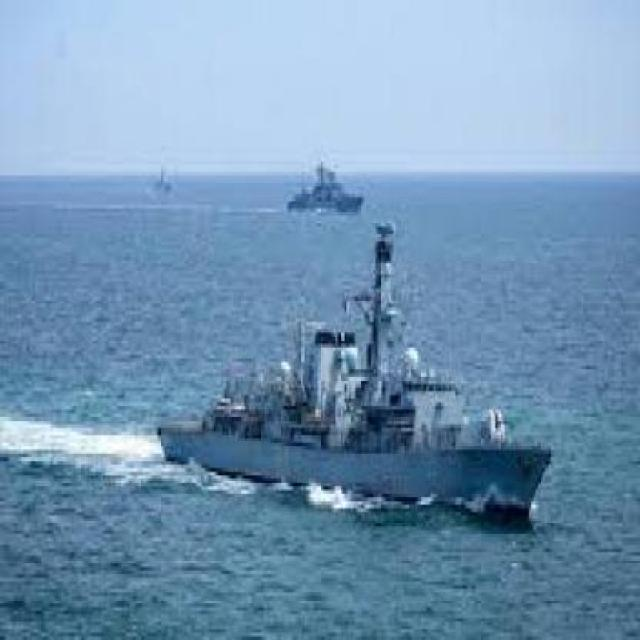warship2: (148, 231, 603, 520)
